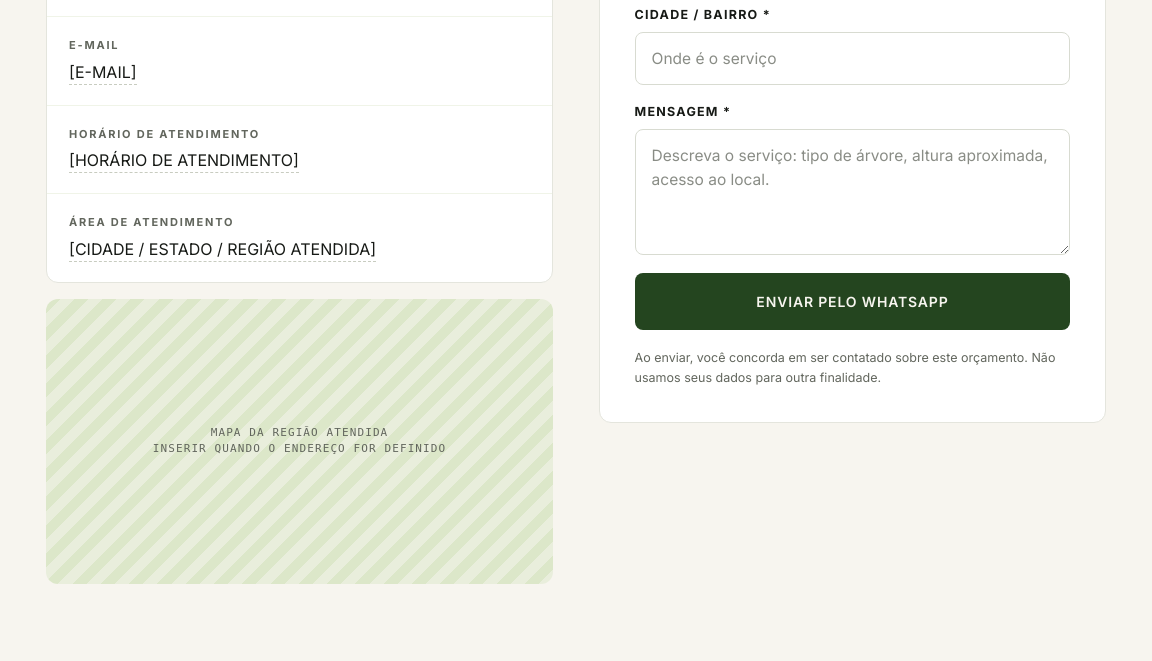
Test: formulário de contato › bloqueia o envio e mostra os erros quando está vazio
(page scrolled)
Click the button "Enviar pelo WhatsApp": (852, 301) [635,273,1070,330]
(page scrolled)
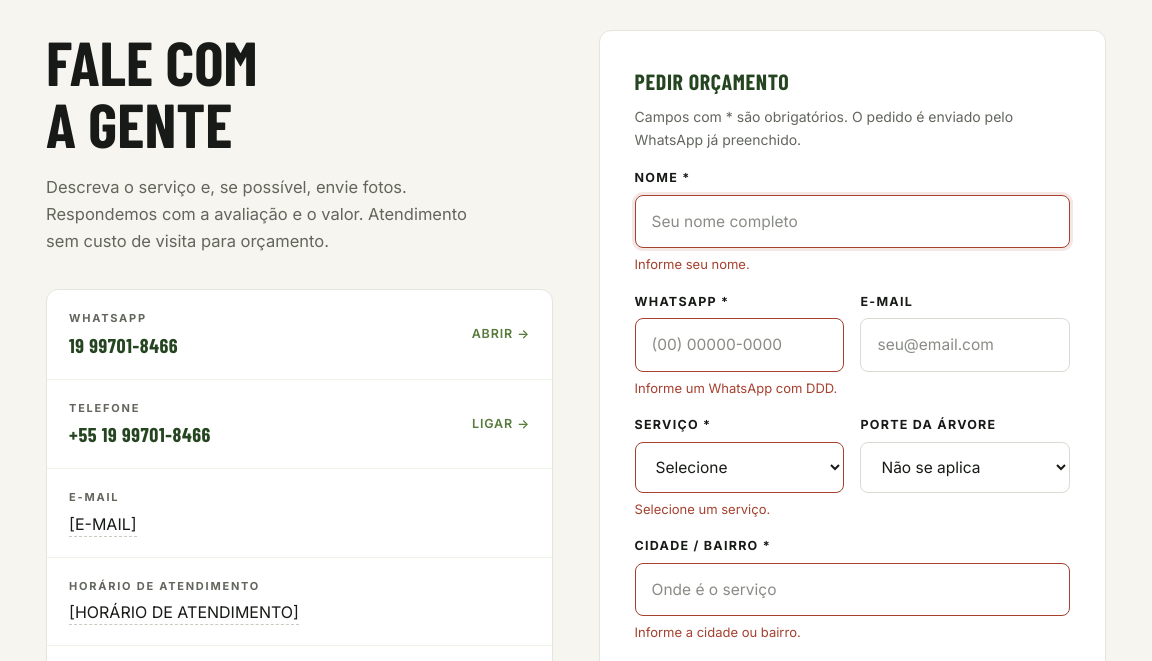
Check: the text "Informe seu nome." is shown, box [635,256,750,272]
Check: the text "Informe um WhatsApp com DDD." is shown, box [635,379,844,398]
Check: the text "Selecione um serviço." is shown, box [635,501,770,517]
